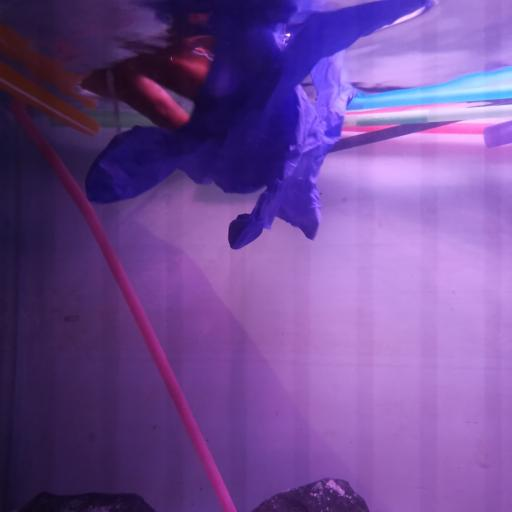glove: (82, 0, 433, 251)
plastic_straw: (8, 99, 237, 512), (1, 59, 100, 139), (326, 118, 458, 154), (347, 81, 512, 109), (342, 104, 512, 128), (341, 121, 496, 136), (482, 119, 512, 150)
